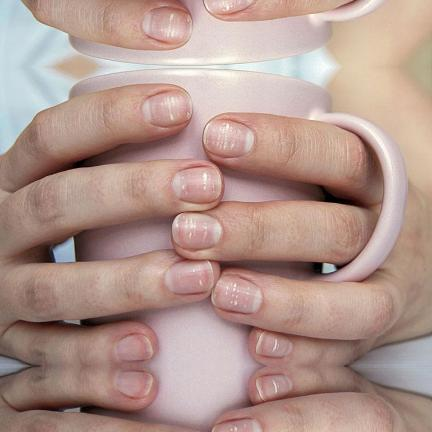Nail: (203, 118, 255, 157), (211, 274, 262, 313), (142, 87, 192, 126), (142, 6, 192, 45), (172, 165, 222, 203), (172, 212, 222, 249), (164, 259, 213, 293), (256, 330, 293, 357), (116, 333, 153, 360), (256, 373, 293, 400), (116, 370, 153, 397), (211, 417, 262, 432), (204, 0, 253, 14)
